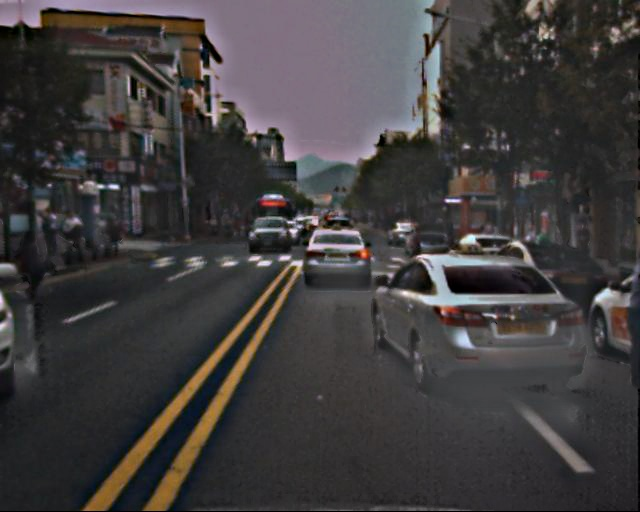person: (51, 204, 127, 256), (18, 223, 58, 294), (571, 219, 598, 282), (405, 225, 426, 277)
